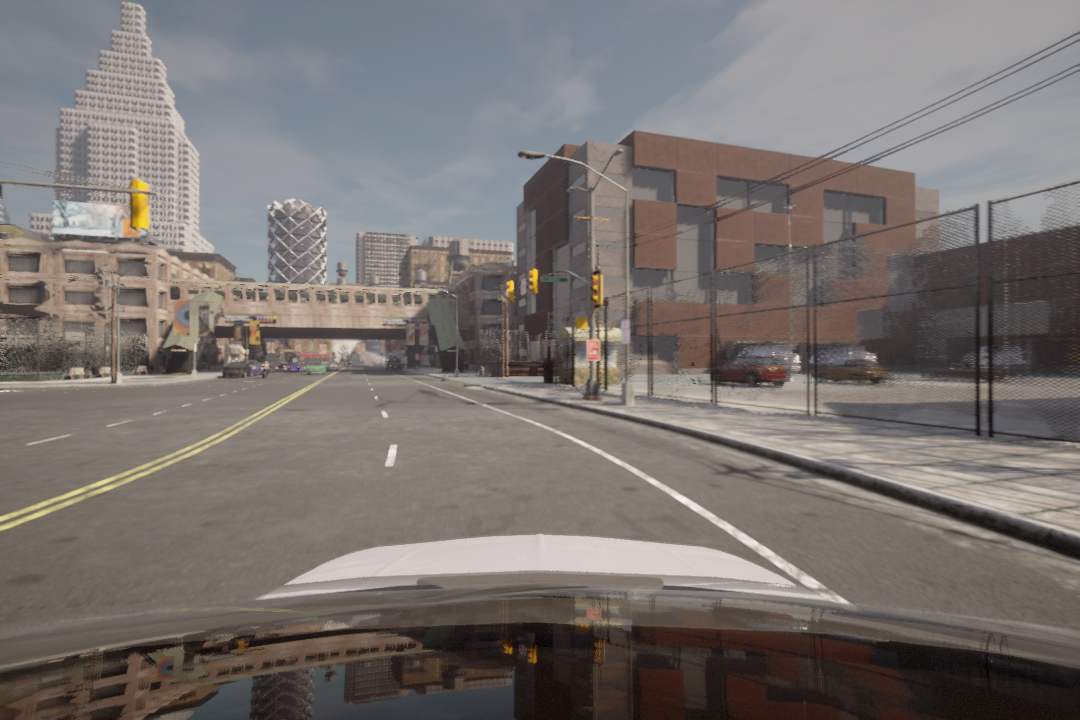TrafficLight: (591, 272, 600, 304), (504, 277, 514, 305), (529, 267, 537, 296)
